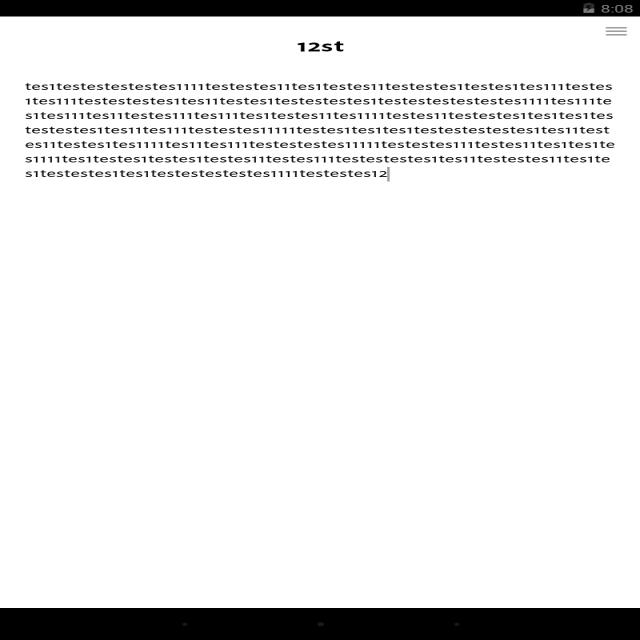ImageButton: (600, 23, 634, 40)
TextView: (28, 81, 610, 177), (292, 40, 365, 56)
